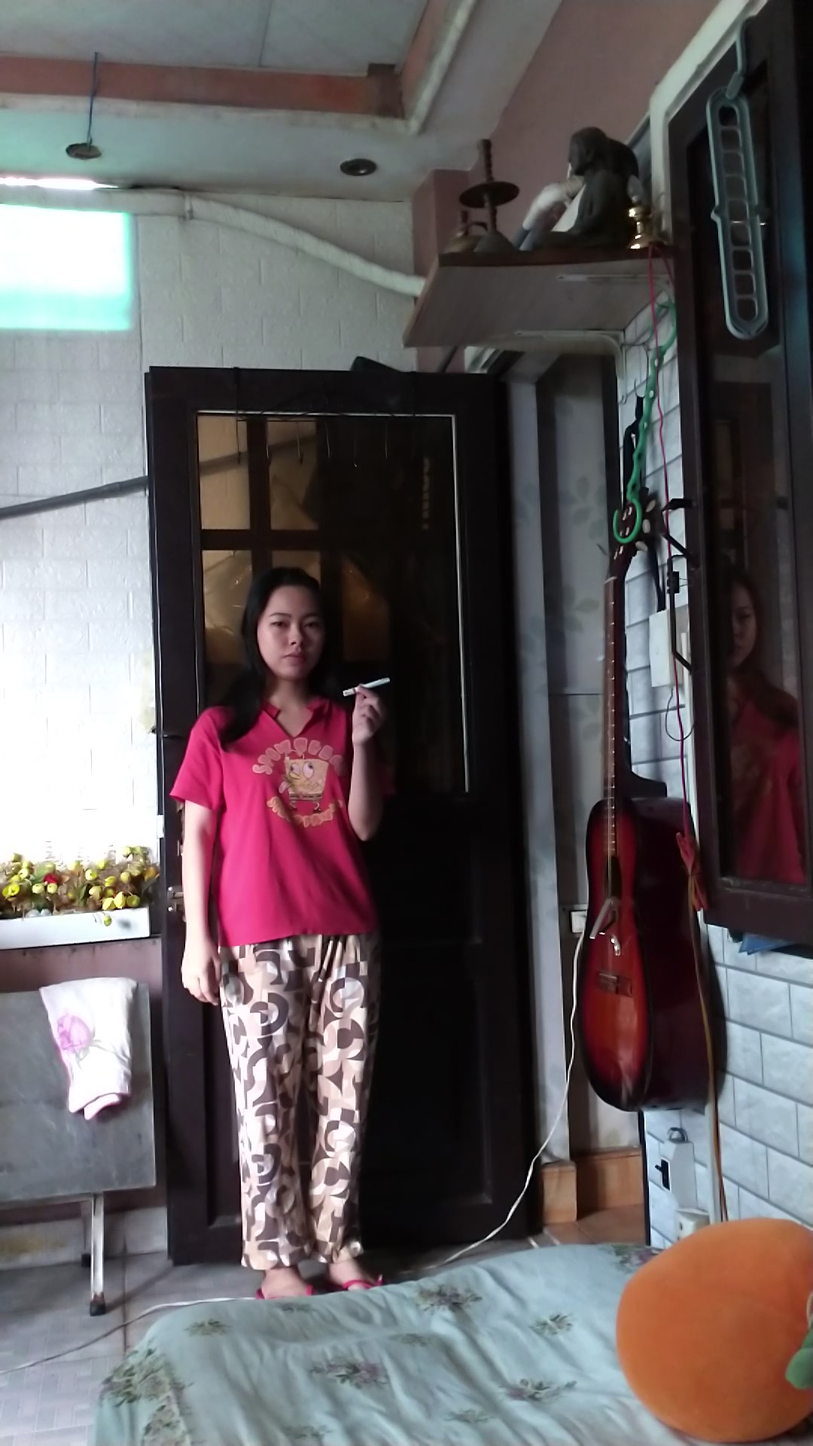cigarette: (360, 672, 394, 694)
person: (171, 524, 397, 1310)
